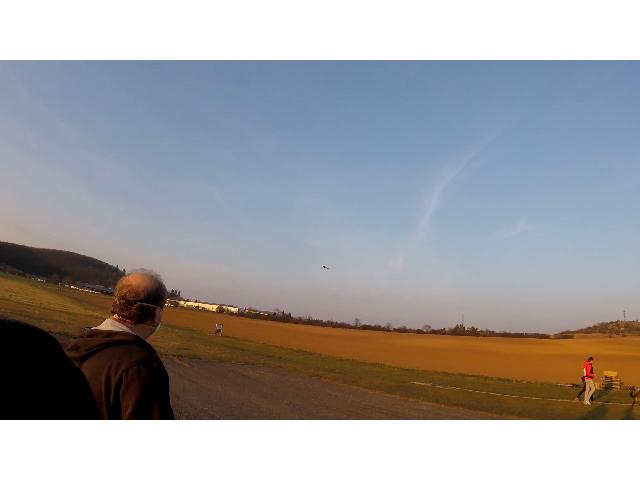Anti-Drone: (322, 266, 330, 268)
